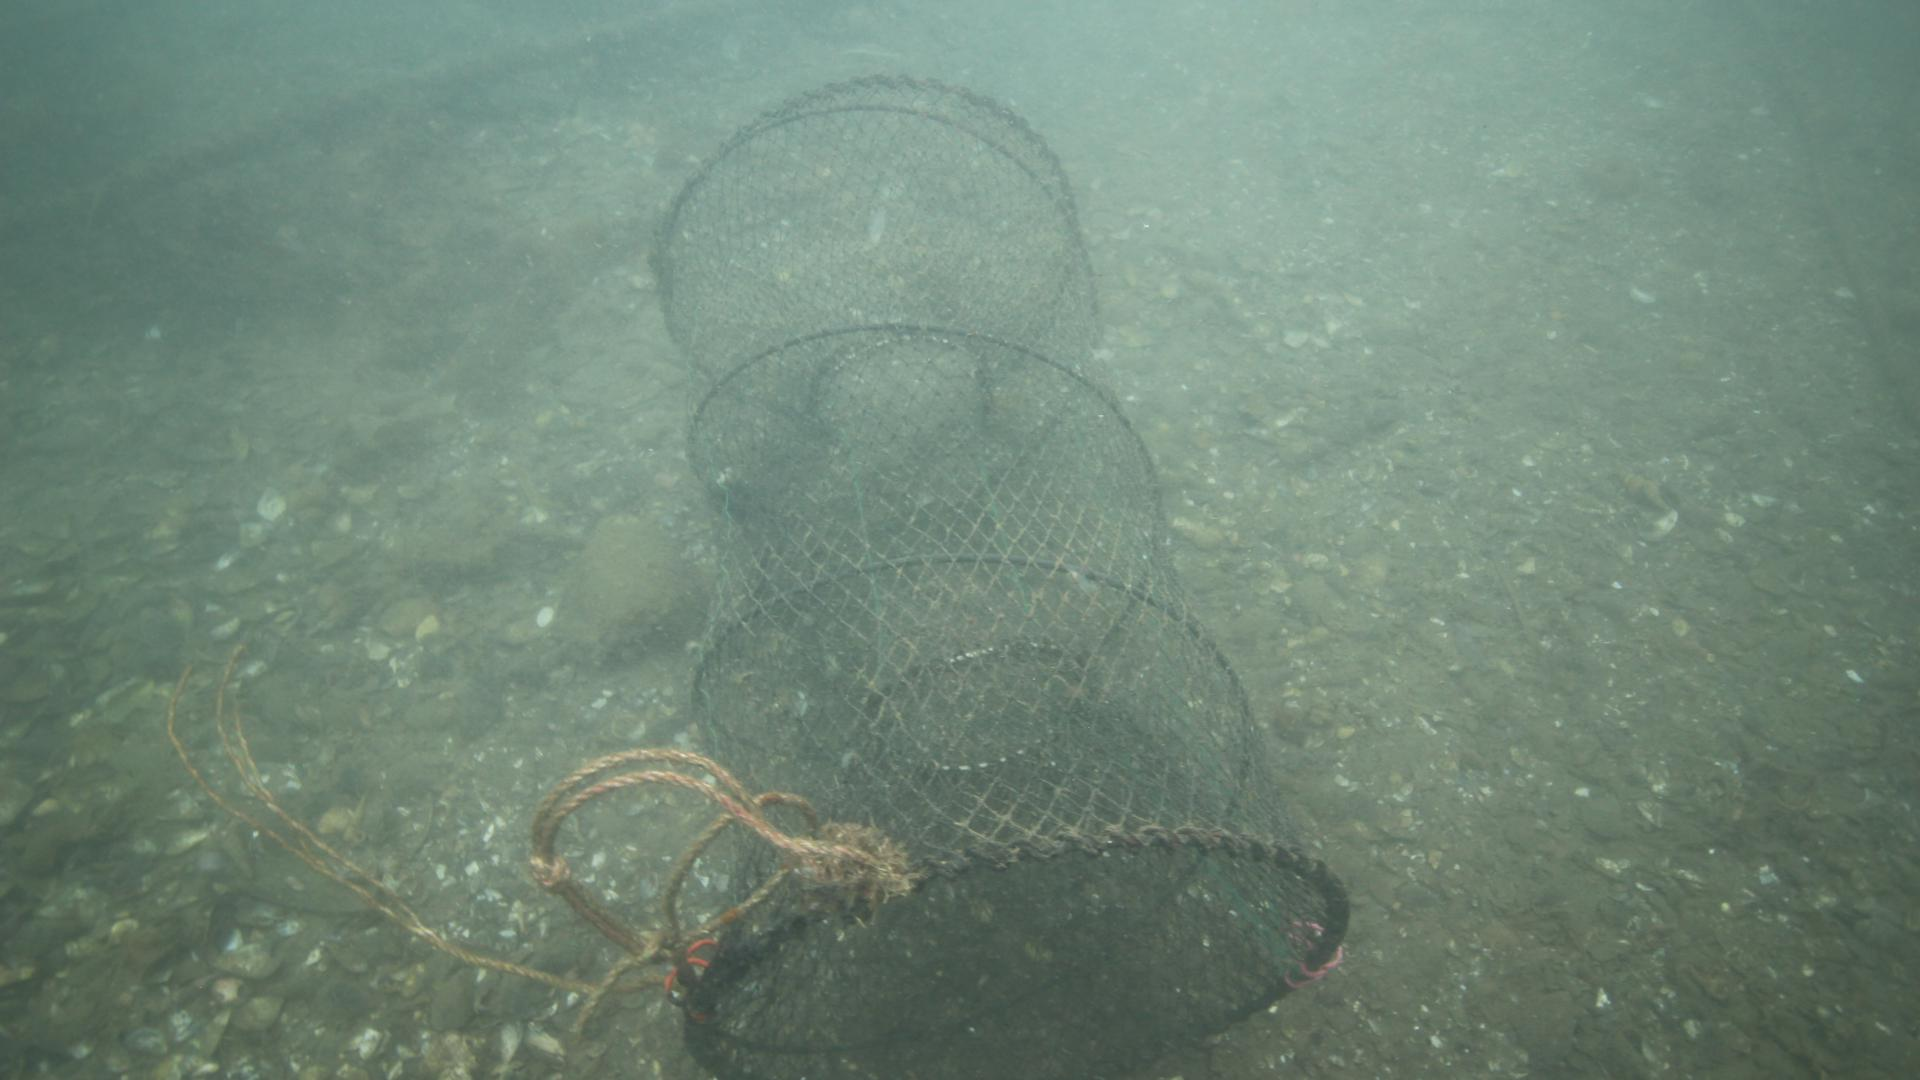bundle of ropes: (526, 746, 866, 1004)
spring fish trap: (653, 69, 1354, 1080)
